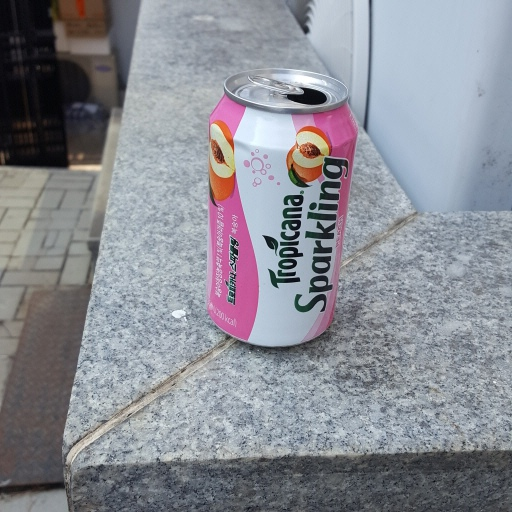Metal_0: (201, 68, 358, 351)
